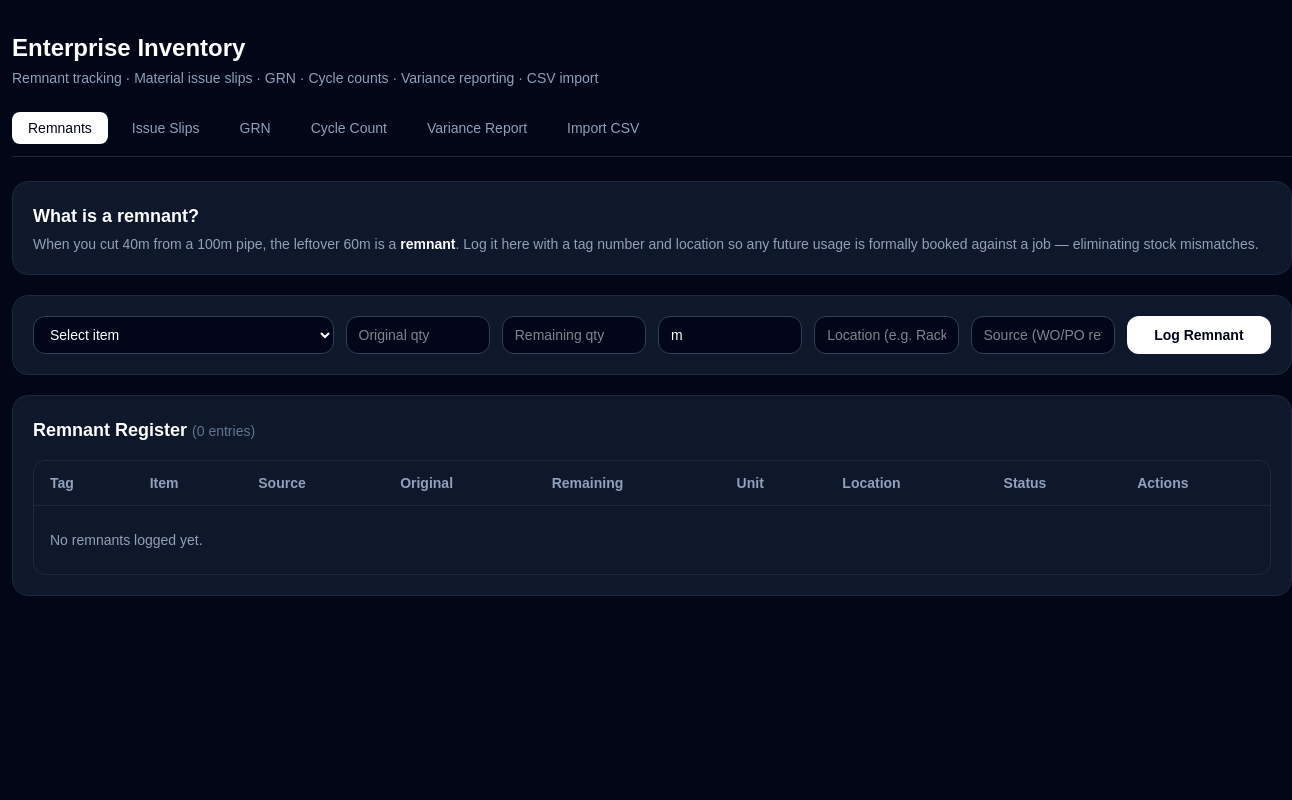
EnterpriseInventory CSV import — a refusal is not a success › reads a validation refusal's messages
Click the button "Import CSV" at (603, 128), box top-left (551, 112), bottom-right (655, 144)
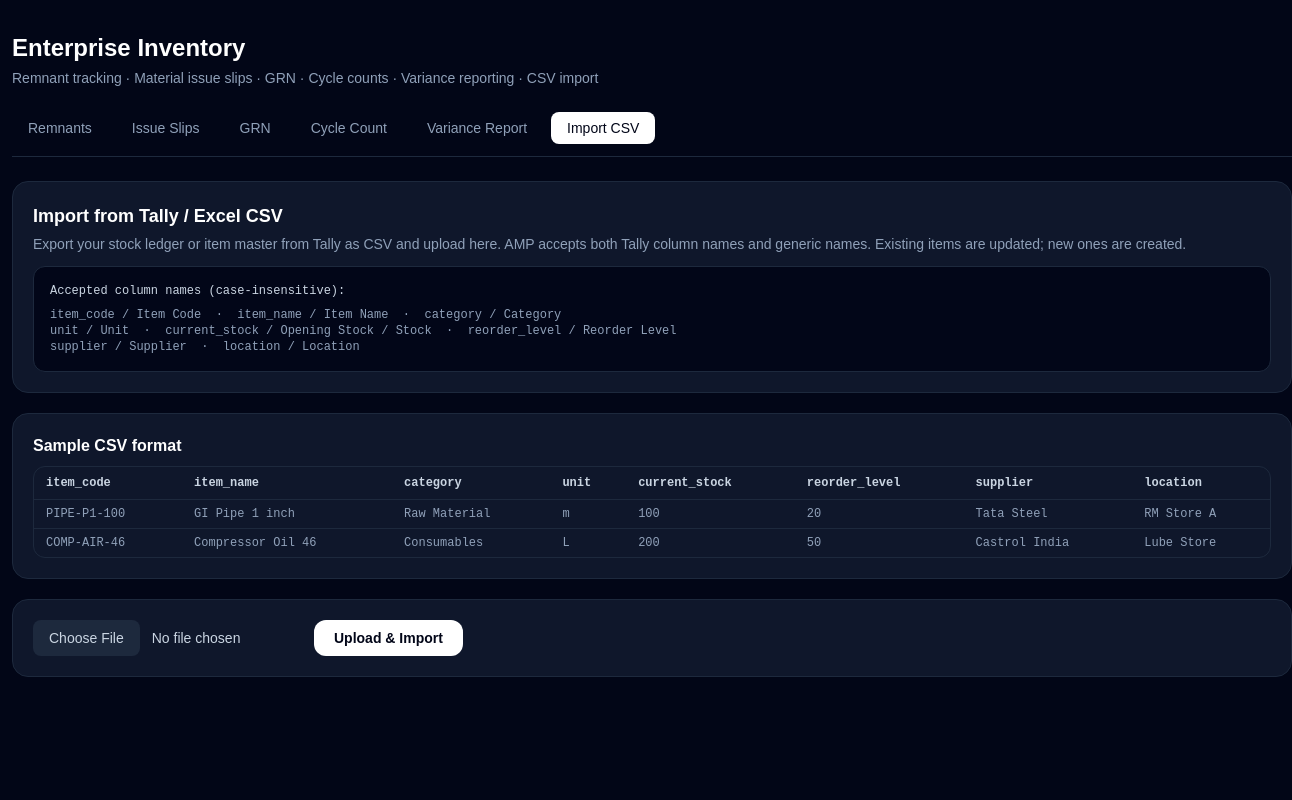
Submit the form, box top-left (12, 599), bottom-right (1291, 677)
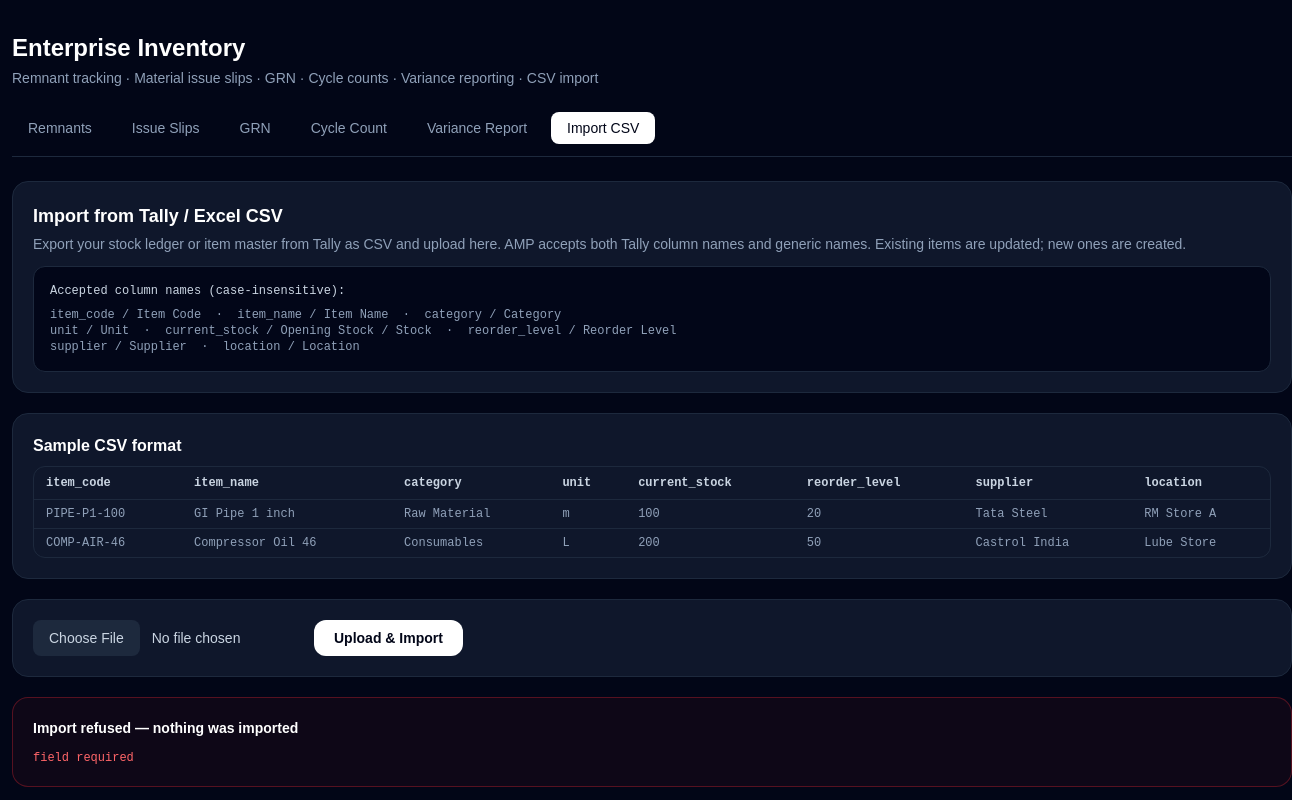
Expected: the message "Import refused — nothing was imported field required" is shown, top-left (12, 697), bottom-right (1291, 787)
Expected: the message shows "field required", top-left (33, 751), bottom-right (134, 765)
